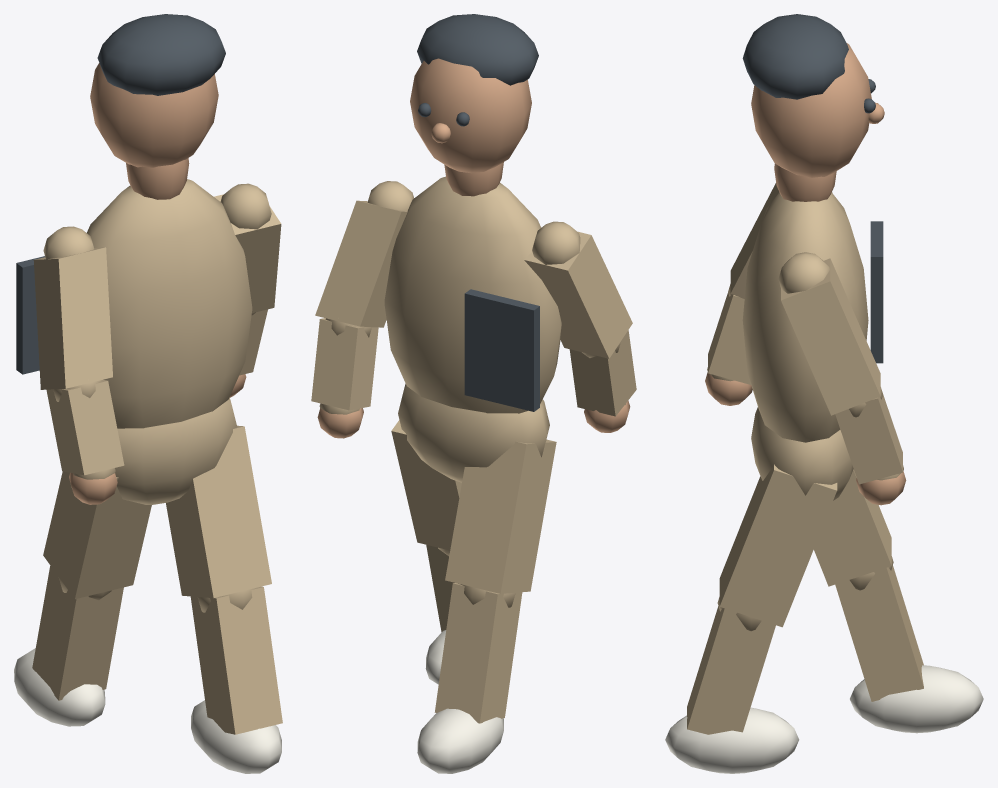
File: person-pemda-step-b.glb
The picture shows the model from 3 angles, left to right: view 1: azimuth 30°, elevation 25°; view 2: azimuth 150°, elevation 25°; view 3: azimuth 270°, elevation 25°; orthographic projection. The views are drawn at different scales.
Parts seen in each view (by area): view 1: person-pemda-step-b; view 2: person-pemda-step-b; view 3: person-pemda-step-b.
Part boxes in pixels (x1,y1,x2,y2): person-pemda-step-b: [14, 14, 282, 773]; person-pemda-step-b: [311, 14, 636, 773]; person-pemda-step-b: [665, 14, 983, 773].
Bounding box in the file's own units: 0.71 × 1.91 × 0.76.
